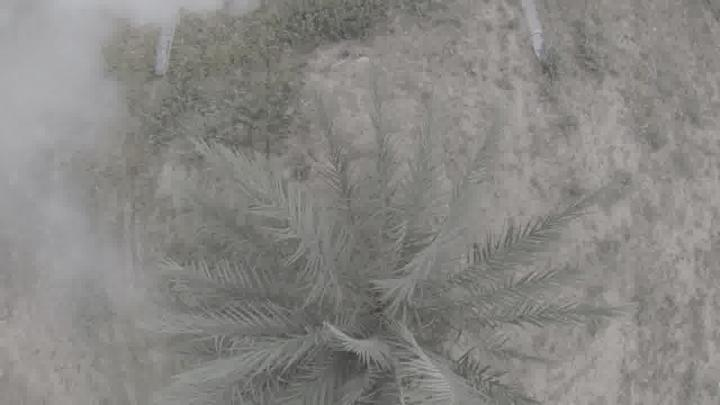Date-Palm-Crown: (246, 184, 486, 399)
